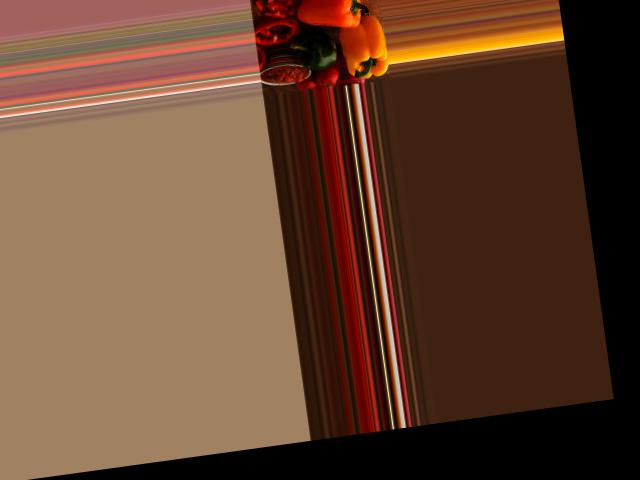bell_pepper: (337, 24, 389, 80)
